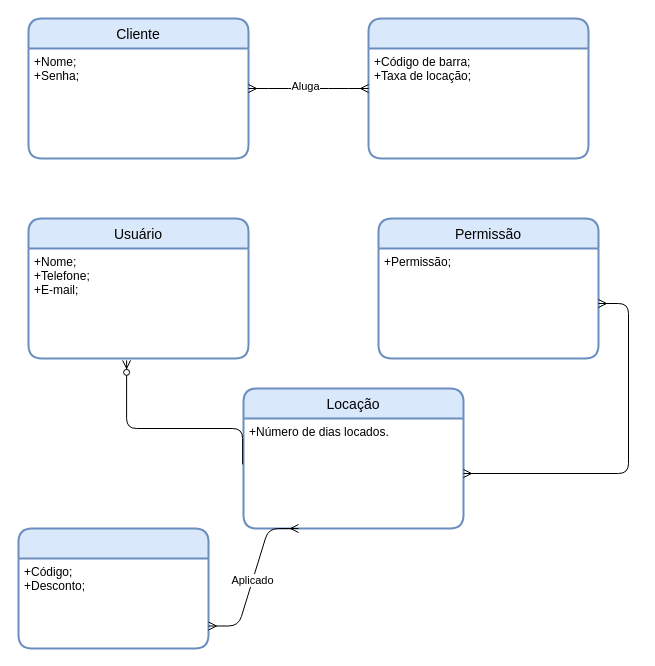
Some shapes in this 655 by 666 pixel diagram are drawn without their labels. The shapes that lost their labels are listed below. From the top down, each one's box as (x1, y1, x2, y2) in pixels, then its label:
(367, 17, 589, 159): Filme
(17, 527, 209, 649): Cupon
